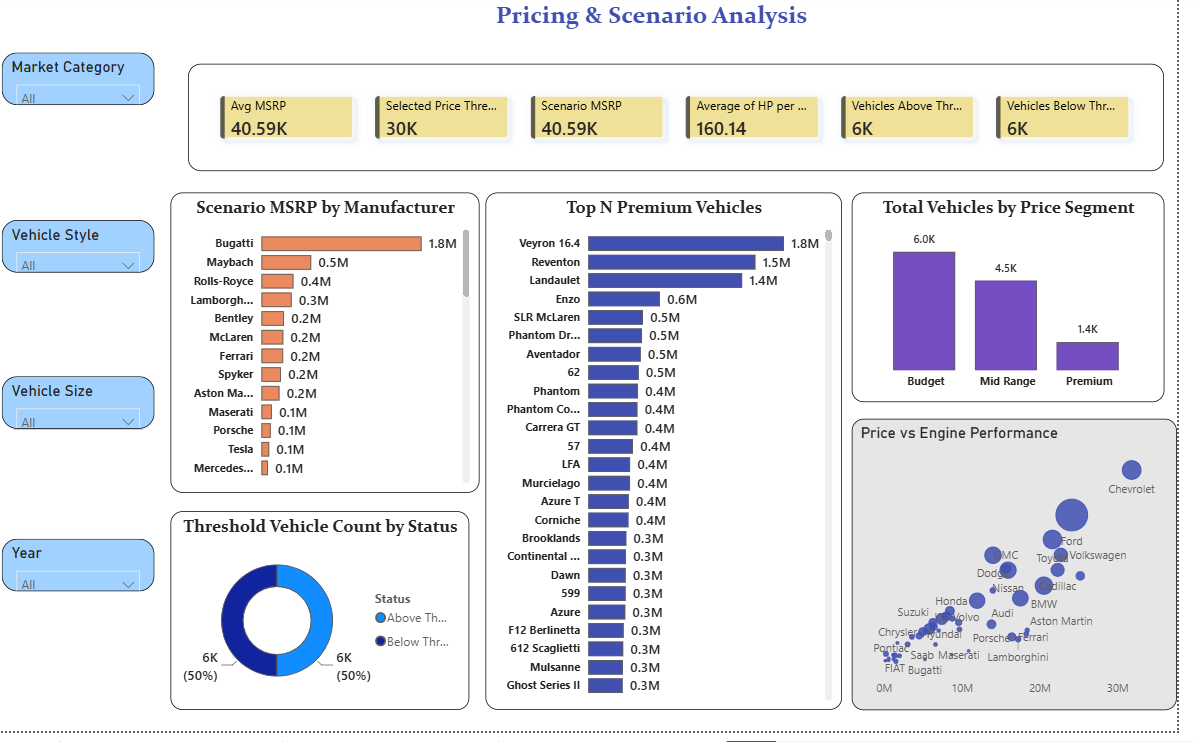

What the dashboard file says about the page in this screenshot:
{"tool":"powerbi","page":{"name":"Pricing & Scenario Analyis","canvas":[1302,806],"ordinal":3},"visuals":[{"type":"textbox","box":[320.3,0,813.1,75.3],"z":0},{"type":"cardVisual","fields":{"Data":["Measure Table.Avg MSRP","Measure Table.Selected Price Threshold","Measure Table.Scenario MSRP","Avg(public car_sales.HP per $10K)","Measure Table.Vehicles Above Threshold","Measure Table.Vehicles Below Threshold"]},"box":[219,75.3,1069.1,117.7],"z":1000},{"type":"clusteredBarChart","title":"Scenario MSRP by Manufacturer","fields":{"Y":["Measure Table.Scenario MSRP"],"Category":["public car_sales.make"]},"box":[199.9,216.3,338.1,328.5],"z":4000},{"type":"clusteredColumnChart","fields":{"Category":["public car_sales.Price Segment"],"Y":["Measure Table.Total Vehicles"]},"box":[945.9,216.3,342.2,230],"z":5000},{"type":"clusteredBarChart","title":"Top N Premium Vehicles","fields":{"Y":["Measure Table.Avg MSRP"],"Category":["public car_sales.model"]},"box":[544.8,216.3,390.1,566.7],"z":6000},{"type":"scatterChart","title":"Price vs Engine Performance","fields":{"X":["Sum(public car_sales.msrp)"],"Y":["Sum(public car_sales.engine_hp)"],"Category":["public car_sales.make"],"Size":["Sum(public car_sales.popularity)"]},"box":[945.9,464.1,355.9,319],"z":7000},{"type":"donutChart","fields":{"Y":["Measure Table.Threshold Vehicle Count"],"Category":["Price Status.Status"]},"box":[199.9,565.4,327.2,217.7],"z":8000},{"type":"slicer","title":"Vehicle Style","fields":{"Values":["public car_sales.vehicle_style"]},"box":[15.1,246.4,167,57.5],"z":8002},{"type":"slicer","title":"Vehicle Size","fields":{"Values":["public car_sales.vehicle_size"]},"box":[15.1,417.5,167,57.5],"z":8003},{"type":"slicer","title":"Year","fields":{"Values":["public car_sales.year"]},"box":[15.1,595.5,167,57.5],"z":8004},{"type":"slicer","title":"Market Category","fields":{"Values":["public car_sales.market_category"]},"box":[15.1,63,167,57.5],"z":8005}]}

Visuals, with their boxes in screenshot pixels (x1, y1, x2, y2), scaled from the page's 1302x806 canvas onto the 1194x742 screenshot:
textbox: l=294, t=0, r=1039, b=69
cardVisual - Measure Table.Avg MSRP x Measure Table.Selected Price Threshold: l=201, t=69, r=1181, b=178
"Scenario MSRP by Manufacturer" clusteredBarChart: l=183, t=199, r=493, b=502
clusteredColumnChart - public car_sales.Price Segment x Measure Table.Total Vehicles: l=867, t=199, r=1181, b=411
"Top N Premium Vehicles" clusteredBarChart: l=500, t=199, r=857, b=721
"Price vs Engine Performance" scatterChart: l=867, t=427, r=1193, b=721
donutChart - Measure Table.Threshold Vehicle Count x Price Status.Status: l=183, t=521, r=483, b=721
"Vehicle Style" slicer: l=14, t=227, r=167, b=280
"Vehicle Size" slicer: l=14, t=384, r=167, b=437
"Year" slicer: l=14, t=548, r=167, b=601
"Market Category" slicer: l=14, t=58, r=167, b=111
